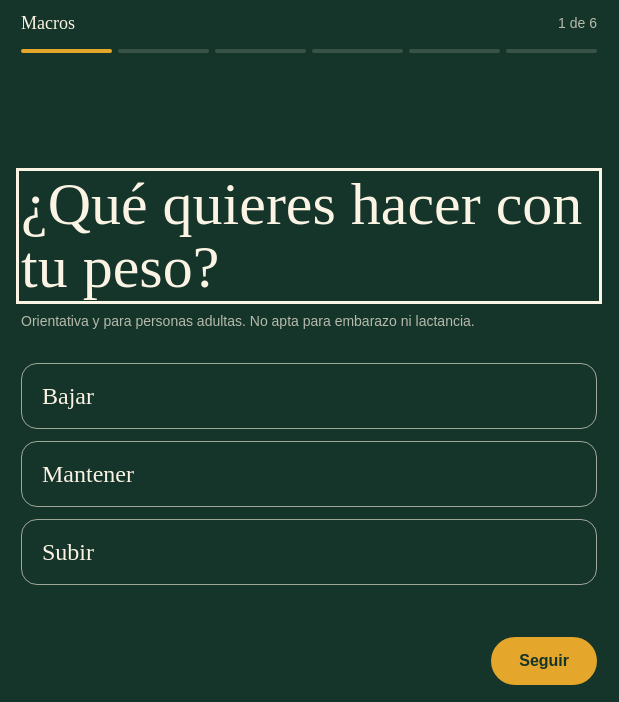
Test: Validación de las preguntas › sin una opción elegida, no avanza y pide elegir, asociado a las opciones
Click the button "Seguir": (544, 661) [491,637,597,685]
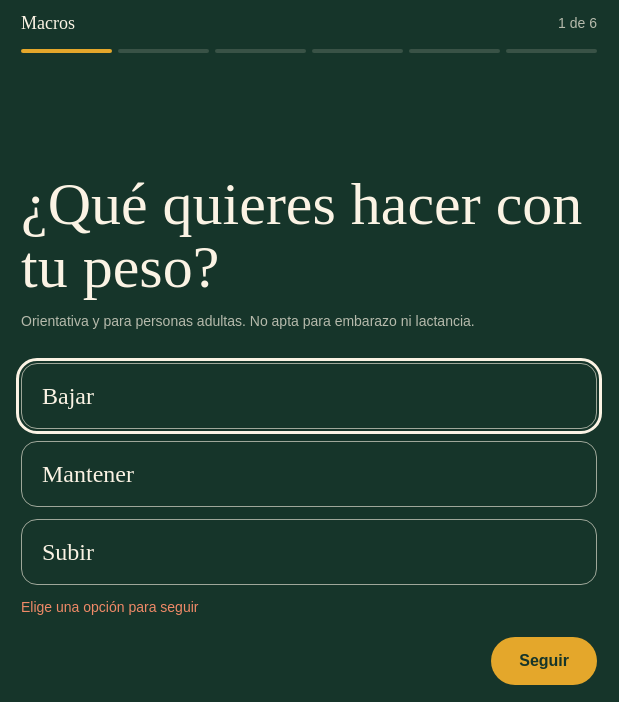
Now the message reads "Elige una opción para seguir", box [21,599,198,615]
